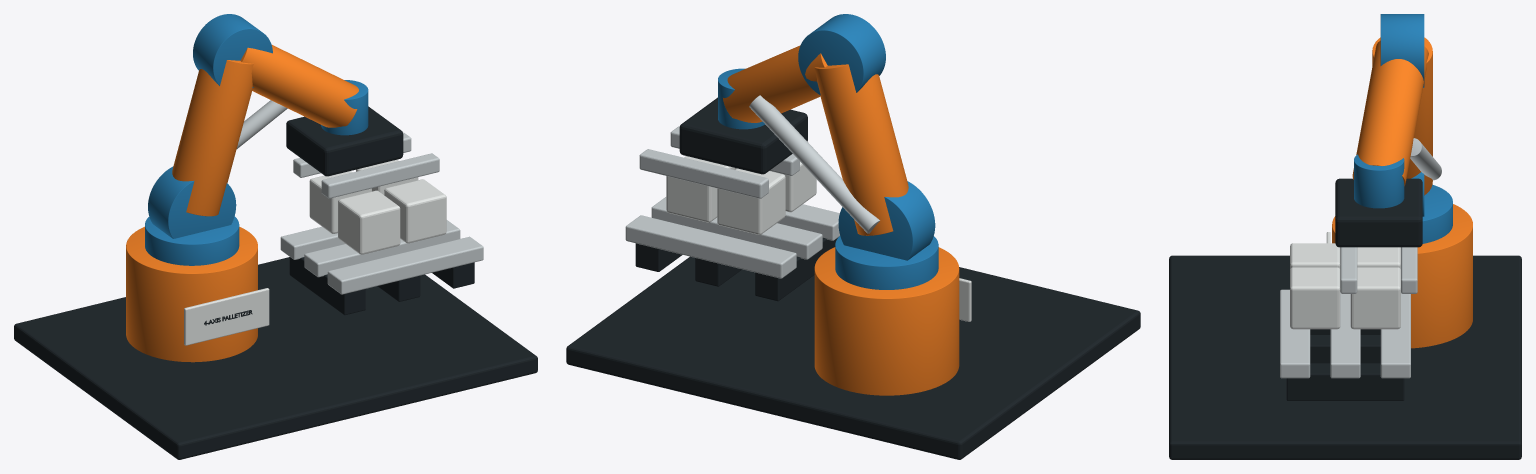
The model's file is four_axis_palletizer.glb.
3 views of the same model, side by side, from view 1: azimuth 30°, elevation 25°; view 2: azimuth 150°, elevation 25°; view 3: azimuth 270°, elevation 25° (orthographic). The views are drawn at different scales.
Visible parts, largest first — view 1: BASE, PALLETIZER_BASE, MAIN_ARM, FOREARM, PALLET_GRIPPER_HEAD, PALLET_DECK_-0.3, CARTON_0.58_-0.18, KIN_AXIS_2, PALLETIZER_SIGN, KIN_AXIS_3, KIN_AXIS_1, CARTON_0.92_-0.18 (+9 smaller); view 2: BASE, PALLETIZER_BASE, MAIN_ARM, PALLET_GRIPPER_HEAD, PALLET_DECK_0.3, FOREARM, KIN_AXIS_3, KIN_AXIS_2, KIN_AXIS_1, PARALLEL_LINK, FORK_RIGHT, CARTON_0.58_0.18 (+9 smaller); view 3: BASE, PALLETIZER_BASE, FOREARM, PALLET_GRIPPER_HEAD, PALLET_BLOCK_1.18, CARTON_0.92_-0.18, CARTON_0.92_0.18, KIN_AXIS_3, KIN_AXIS_4, PALLET_DECK_-0.3, PALLET_DECK_0, PALLET_DECK_0.3 (+8 smaller).
Boxes of the visible parts, x1,y1,x2,y2 form: BASE: (14, 257, 537, 459); PALLETIZER_BASE: (126, 226, 257, 362); MAIN_ARM: (172, 60, 253, 216); FOREARM: (240, 45, 358, 127); PALLET_GRIPPER_HEAD: (286, 106, 403, 176); PALLET_DECK_-0.3: (327, 236, 483, 294); CARTON_0.58_-0.18: (338, 190, 400, 254); KIN_AXIS_2: (148, 166, 236, 238); PALLETIZER_SIGN: (184, 288, 269, 345); KIN_AXIS_3: (193, 14, 272, 87); KIN_AXIS_1: (145, 216, 239, 265); CARTON_0.92_-0.18: (384, 179, 446, 243); BASE: (566, 256, 1140, 459); PALLETIZER_BASE: (814, 247, 959, 395); MAIN_ARM: (814, 64, 908, 235); PALLET_GRIPPER_HEAD: (679, 97, 807, 174); PALLET_DECK_0.3: (625, 215, 796, 278); FOREARM: (723, 45, 827, 122); KIN_AXIS_3: (798, 14, 885, 95); KIN_AXIS_2: (838, 181, 935, 260); KIN_AXIS_1: (835, 236, 938, 289); PARALLEL_LINK: (749, 95, 879, 233); FORK_RIGHT: (639, 149, 768, 198); CARTON_0.58_0.18: (717, 168, 785, 234); BASE: (1169, 255, 1521, 459); PALLETIZER_BASE: (1332, 204, 1472, 348); FOREARM: (1352, 40, 1428, 186); PALLET_GRIPPER_HEAD: (1335, 178, 1422, 247); PALLET_BLOCK_1.18: (1286, 363, 1404, 400); CARTON_0.92_-0.18: (1290, 267, 1340, 329); CARTON_0.92_0.18: (1350, 267, 1400, 329); KIN_AXIS_3: (1380, 14, 1424, 87); KIN_AXIS_4: (1354, 154, 1404, 208); PALLET_DECK_-0.3: (1280, 289, 1310, 378); PALLET_DECK_0: (1330, 292, 1360, 378); PALLET_DECK_0.3: (1380, 293, 1410, 378).
Bounding box in the file's own units: 2.65 × 2.24 × 2.1.
